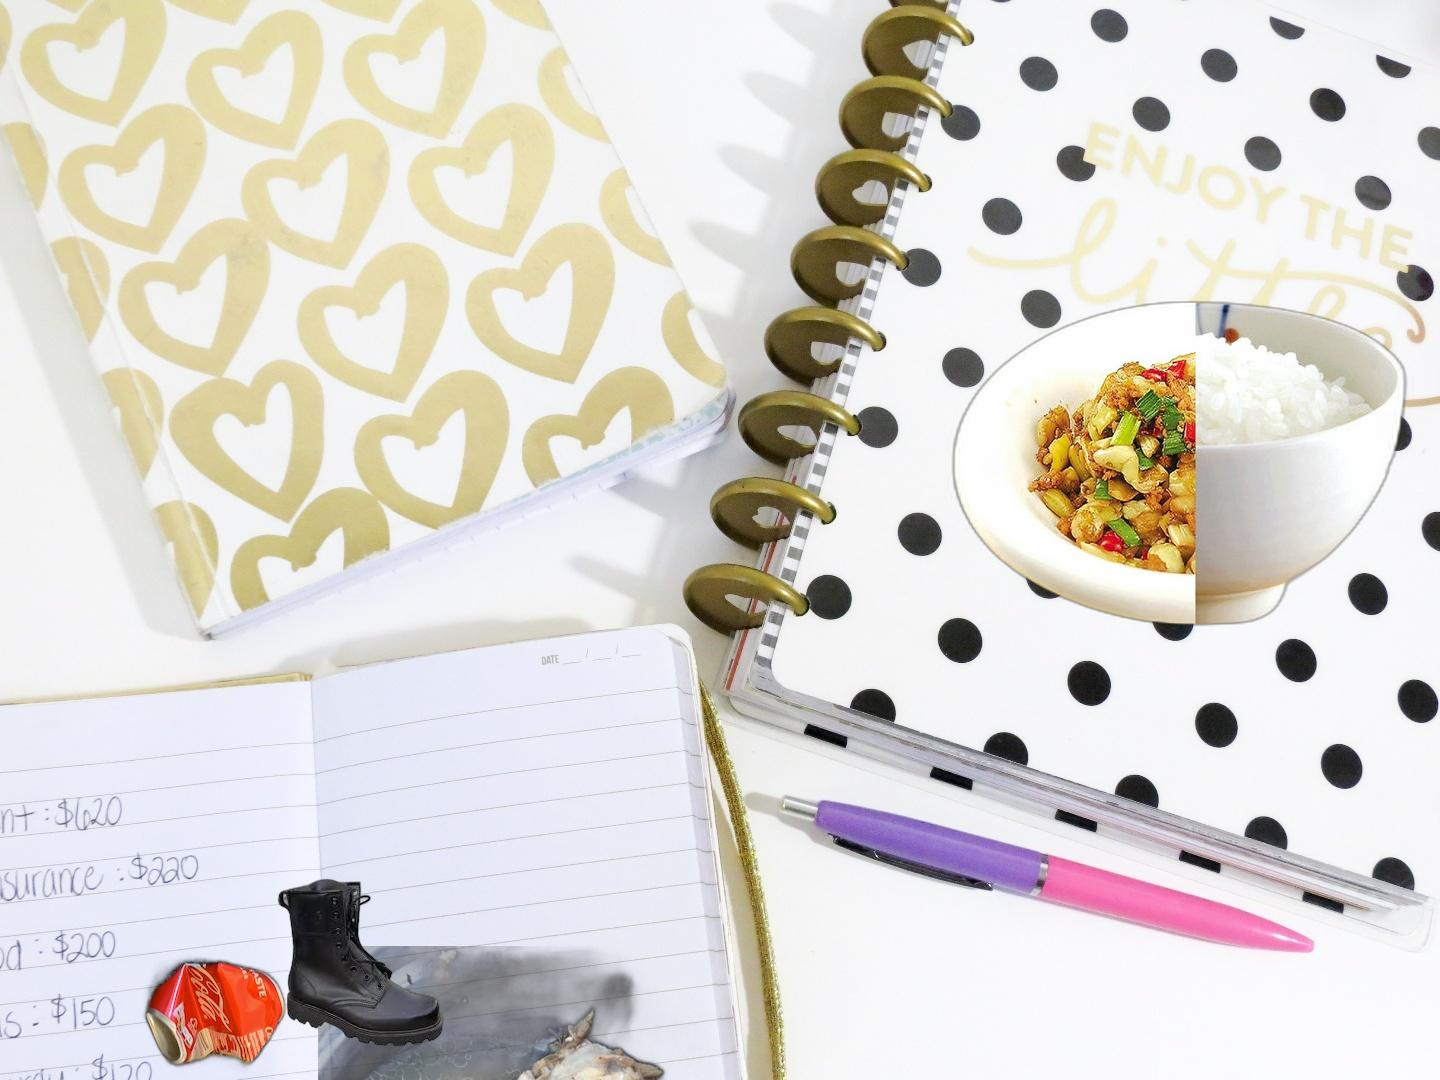biological: (945, 296, 1414, 631), (317, 946, 766, 1080)
metal-cans: (139, 954, 290, 1075)
shoes: (276, 876, 446, 1049)
